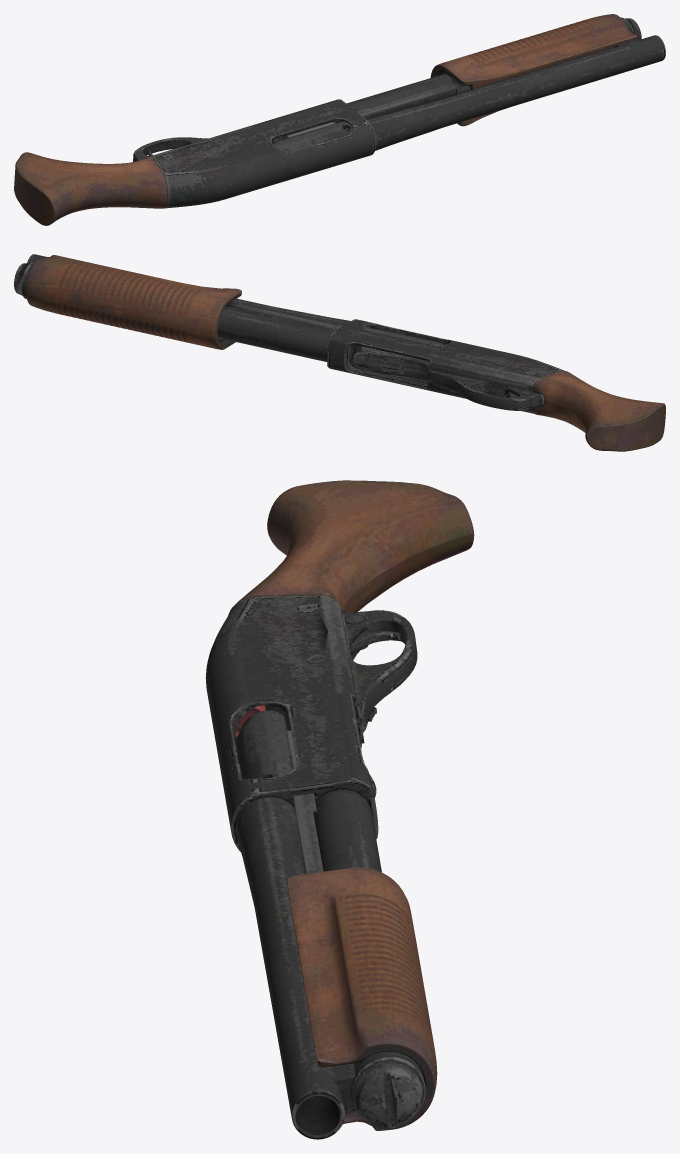
File: w_sawedoff.glb
The picture shows the model from 3 angles, top to bottom: view 1: azimuth 30°, elevation 25°; view 2: azimuth 150°, elevation 25°; view 3: azimuth 270°, elevation 25°; orthographic projection. The views are drawn at different scales.
Visible parts, largest first — view 1: w_sawedoff; view 2: w_sawedoff; view 3: w_sawedoff.
Part boxes in pixels (bbox=[...]): w_sawedoff: bbox=[14, 14, 665, 225]; w_sawedoff: bbox=[14, 254, 665, 451]; w_sawedoff: bbox=[205, 480, 474, 1139].
Size of the model in its own units: 0.8593 by 0.0706 by 0.1599.
2 materials, 1 textured.
